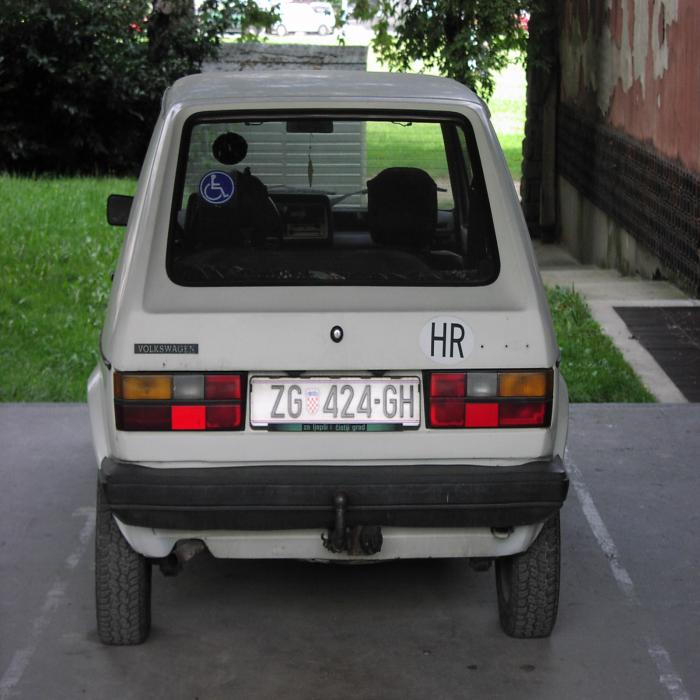number_plate: (251, 379, 419, 423)
